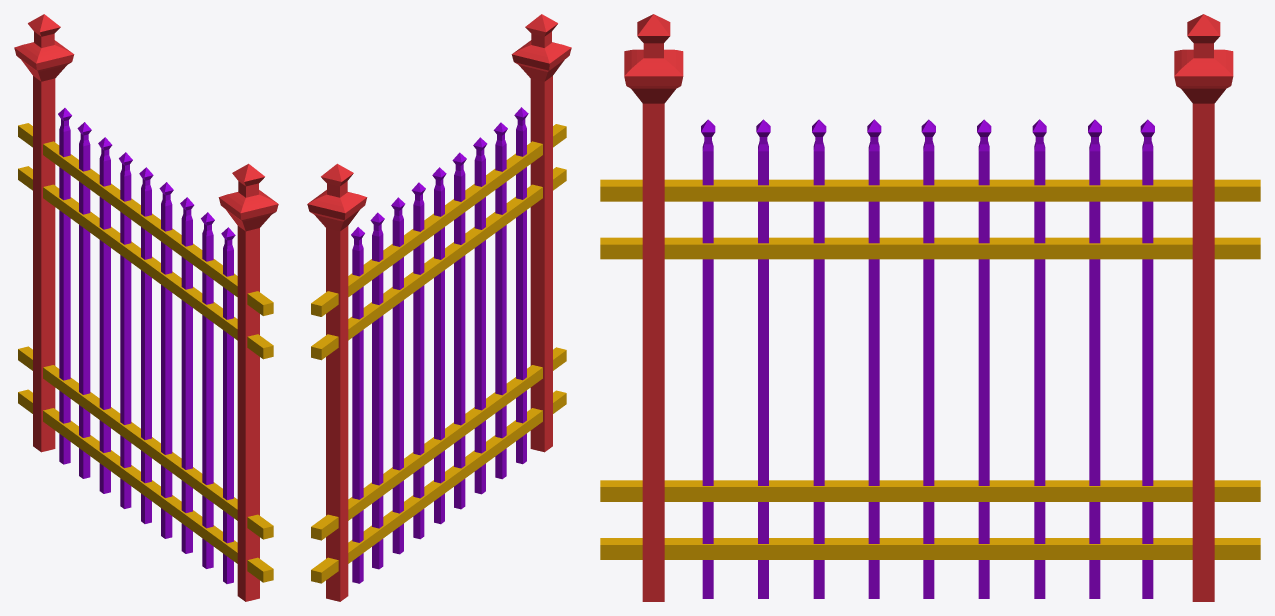
The model's file is GothicFenceUVID.fbx.
3 views of the same model, side by side, from view 1: azimuth 30°, elevation 25°; view 2: azimuth 150°, elevation 25°; view 3: azimuth 270°, elevation 25° (orthographic). The views are drawn at different scales.
Visible parts, largest first — view 1: LargePost.002, LargePost.001, SupportPost.001, SupportPost, SupportPost.003, SupportPost.002, SmallPost.002, SmallPost.006, SmallPost.008, SmallPost.003, SmallPost.001, SmallPost.007 (+3 smaller); view 2: LargePost.001, LargePost.002, SupportPost.001, SupportPost, SupportPost.003, SupportPost.002, SmallPost.007, SmallPost.003, SmallPost.001, SmallPost.005, SmallPost.008, SmallPost.002 (+3 smaller); view 3: LargePost.001, LargePost.002, SupportPost, SupportPost.001, SupportPost.002, SupportPost.003, SmallPost.002, SmallPost.003, SmallPost.004, SmallPost.006, SmallPost.008, SmallPost (+3 smaller).
Boxes of the visible parts, <box> form: LargePost.002: <box>218,163,278,601</box>; LargePost.001: <box>14,14,74,452</box>; SupportPost.001: <box>18,166,273,359</box>; SupportPost: <box>18,123,273,315</box>; SupportPost.003: <box>18,389,273,582</box>; SupportPost.002: <box>18,346,273,539</box>; SmallPost.002: <box>180,197,194,553</box>; SmallPost.006: <box>98,137,112,493</box>; SmallPost.008: <box>58,108,71,464</box>; SmallPost.003: <box>159,182,173,538</box>; SmallPost.001: <box>201,212,214,568</box>; SmallPost.007: <box>77,122,91,478</box>; LargePost.001: <box>307,163,367,601</box>; LargePost.002: <box>511,14,571,452</box>; SupportPost.001: <box>311,167,566,360</box>; SupportPost: <box>311,124,566,316</box>; SupportPost.003: <box>311,390,566,583</box>; SupportPost.002: <box>311,347,566,540</box>; SmallPost.007: <box>370,212,384,569</box>; SmallPost.003: <box>452,152,466,509</box>; SmallPost.001: <box>493,122,507,479</box>; SmallPost.005: <box>411,182,425,539</box>; SmallPost.008: <box>351,227,364,583</box>; SmallPost.002: <box>473,137,487,494</box>; LargePost.001: <box>1174,14,1233,601</box>; LargePost.002: <box>624,14,683,601</box>; SupportPost: <box>600,179,1260,201</box>; SupportPost.001: <box>600,237,1260,259</box>; SupportPost.002: <box>600,480,1260,501</box>; SupportPost.003: <box>600,538,1260,559</box>; SmallPost.002: <box>812,119,826,598</box>; SmallPost.003: <box>867,119,881,598</box>; SmallPost.004: <box>921,119,935,598</box>; SmallPost.006: <box>1032,119,1046,598</box>; SmallPost.008: <box>1140,119,1154,598</box>; SmallPost: <box>701,119,715,598</box>.
Bounding box in the file's own units: 108 × 1170 × 1200.
